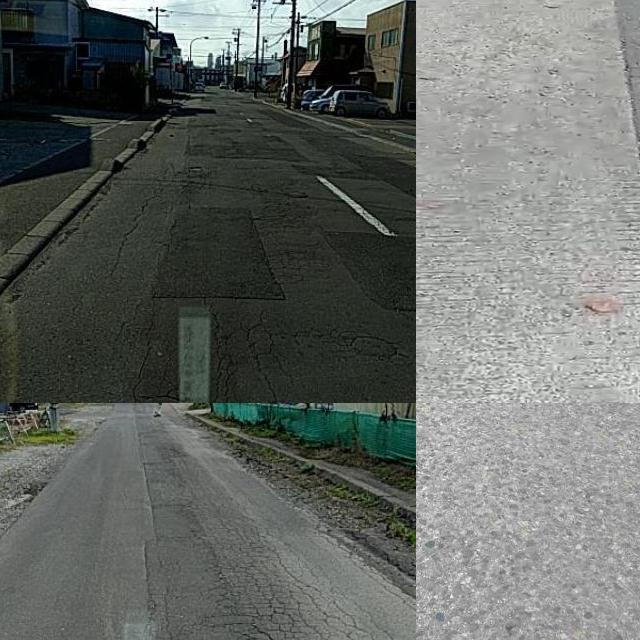Retak Buaya: (206, 533, 377, 640)
Sambungan: (416, 0, 640, 403), (153, 202, 281, 296), (327, 235, 416, 311)
